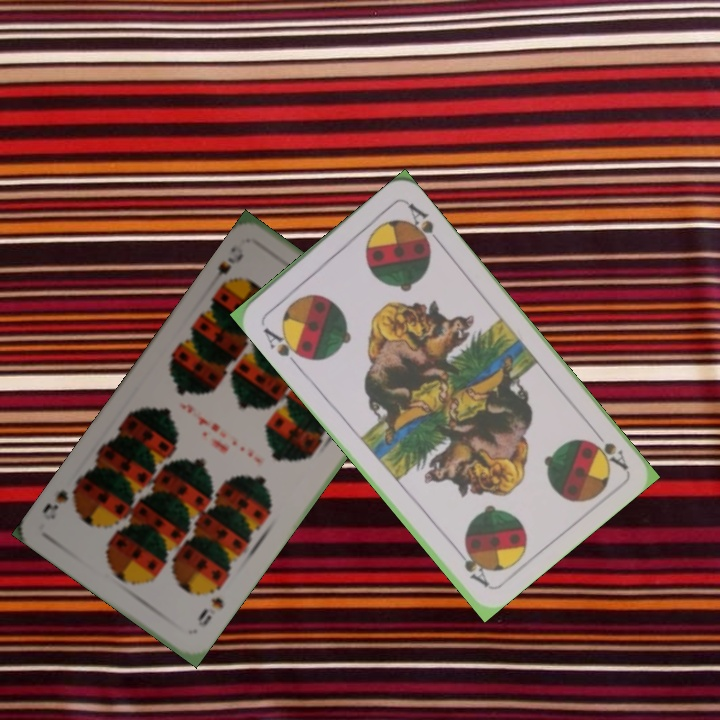S9: (206, 242, 246, 293), (193, 592, 227, 629)
SA: (584, 422, 631, 472), (259, 323, 308, 368)
